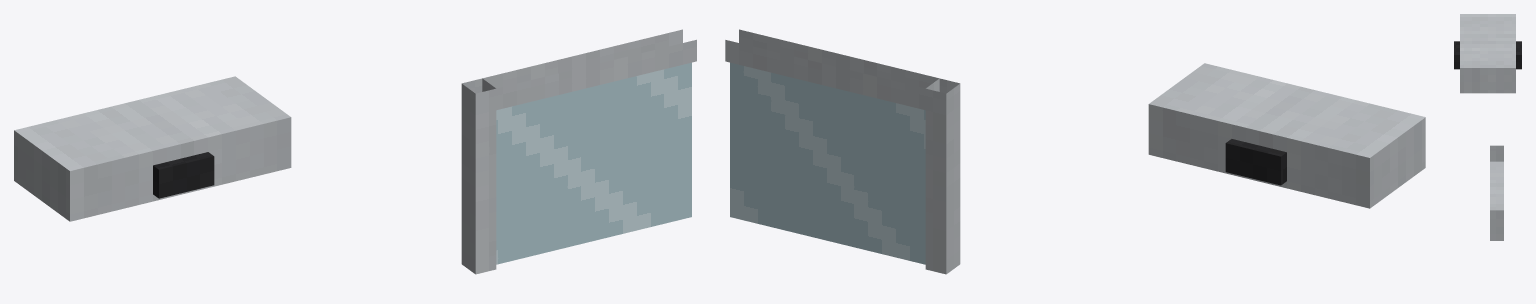
The model's file is auto_door_wide_slider_clear_c1_upper_right_open.obj.
3 views of the same model, side by side, from view 1: azimuth 30°, elevation 25°; view 2: azimuth 150°, elevation 25°; view 3: azimuth 270°, elevation 25° (orthographic). The views are drawn at different scales.
Parts seen in each view (by area): view 1: auto_door_wide_slider_clear_c1_upper_right_open; view 2: auto_door_wide_slider_clear_c1_upper_right_open; view 3: auto_door_wide_slider_clear_c1_upper_right_open.
Part boxes in pixels (bbox=[...]): auto_door_wide_slider_clear_c1_upper_right_open: bbox=[14, 29, 696, 274]; auto_door_wide_slider_clear_c1_upper_right_open: bbox=[725, 29, 1425, 274]; auto_door_wide_slider_clear_c1_upper_right_open: bbox=[1454, 14, 1521, 240].
Bounding box in the file's own units: 2.97 × 1 × 0.5312.
